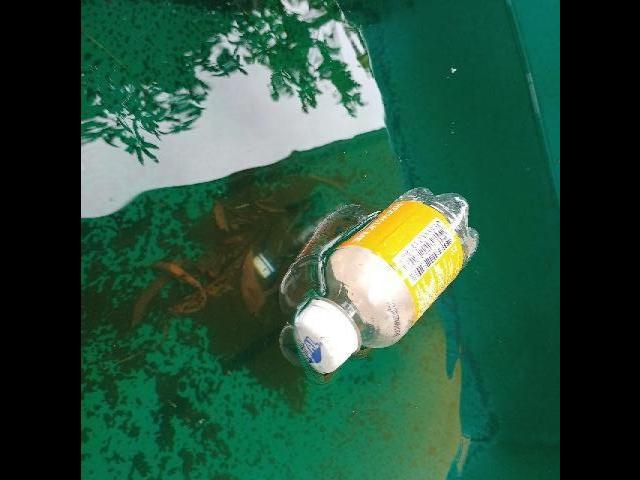Bottle: (282, 183, 483, 382)
